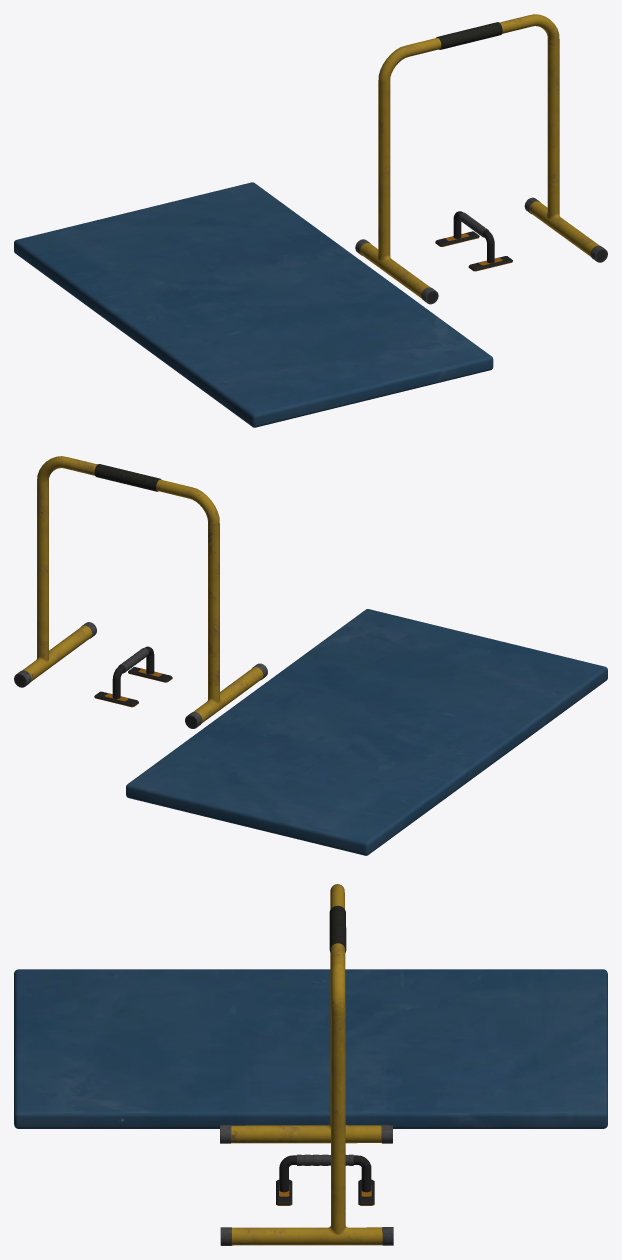
Rendered from gym-props-3.glb.
3 views of the same model, one above another, from view 1: azimuth 30°, elevation 25°; view 2: azimuth 150°, elevation 25°; view 3: azimuth 270°, elevation 25° (orthographic). The views are drawn at different scales.
Parts seen in each view (by area): view 1: Object_8, Object_5, Object_7, Object_6; view 2: Object_8, Object_5, Object_7, Object_6; view 3: Object_8, Object_5, Object_6, Object_0, Object_7, Object_3, Object_1.
Boxes of the visible parts, x1,y1,x2,y2 form: Object_8: (14,182,493,427); Object_5: (360,14,599,298); Object_7: (436,22,502,49); Object_6: (355,197,607,304); Object_8: (126,609,607,855); Object_5: (22,456,263,723); Object_7: (94,464,161,491); Object_6: (14,622,267,728); Object_8: (14,969,607,1128); Object_5: (231,884,382,1245); Object_6: (220,1124,393,1245); Object_0: (279,1155,371,1192); Object_7: (329,905,346,952); Object_3: (276,1179,374,1204); Object_1: (297,1154,353,1165).
Size of the model in its own units: 0.8994 by 0.429 by 0.8547.
9 materials, 5 textured.
